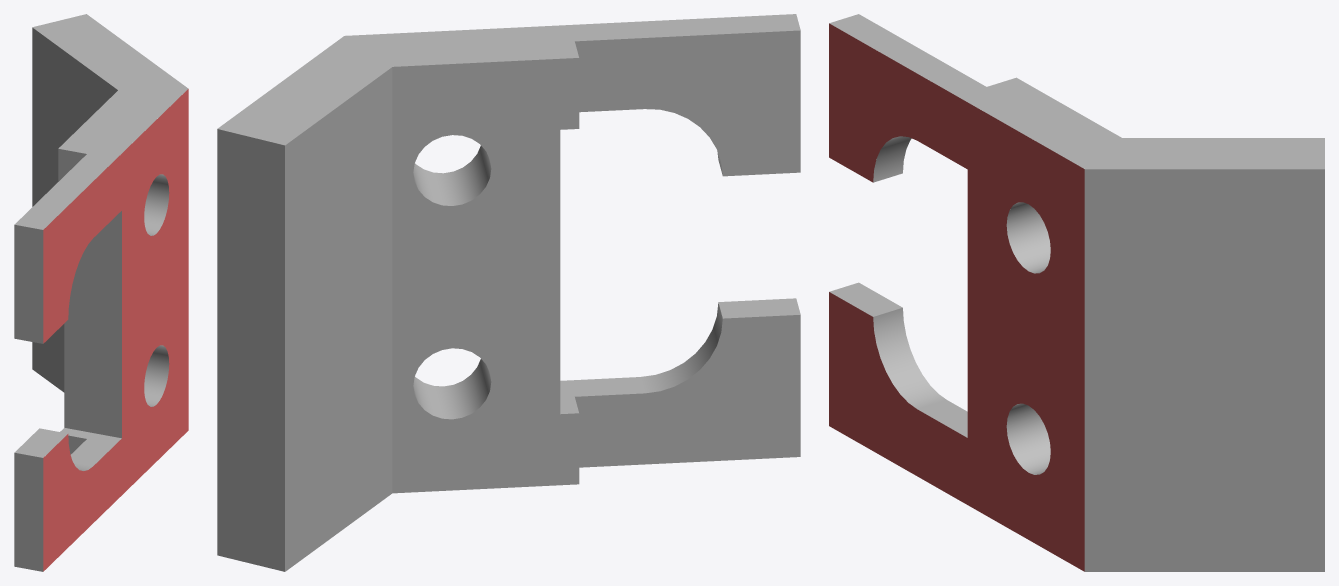
3 renders of one model, left to right at view 1: azimuth 30°, elevation 25°; view 2: azimuth 150°, elevation 25°; view 3: azimuth 270°, elevation 25°, orthographic. The views are drawn at different scales.
Parts seen in each view (by area): view 1: 32-5.SLDPRT; view 2: 32-5.SLDPRT; view 3: 32-5.SLDPRT.
Part boxes in pixels (<box>): 32-5.SLDPRT: <box>14,14,188,571</box>; 32-5.SLDPRT: <box>217,14,800,571</box>; 32-5.SLDPRT: <box>829,14,1324,571</box>.
Size of the model in its own units: 0.0496 by 0.06 by 0.0669.
